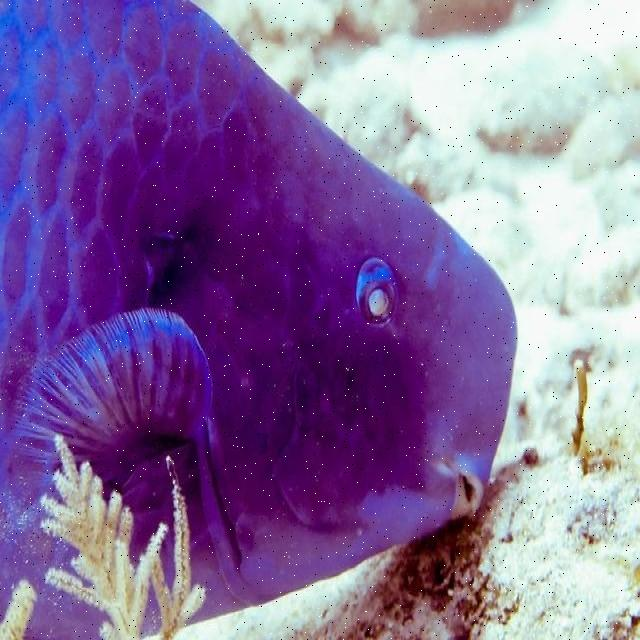fish: (0, 0, 516, 639)
reefs: (38, 431, 207, 639), (0, 579, 38, 639), (570, 365, 588, 453)
